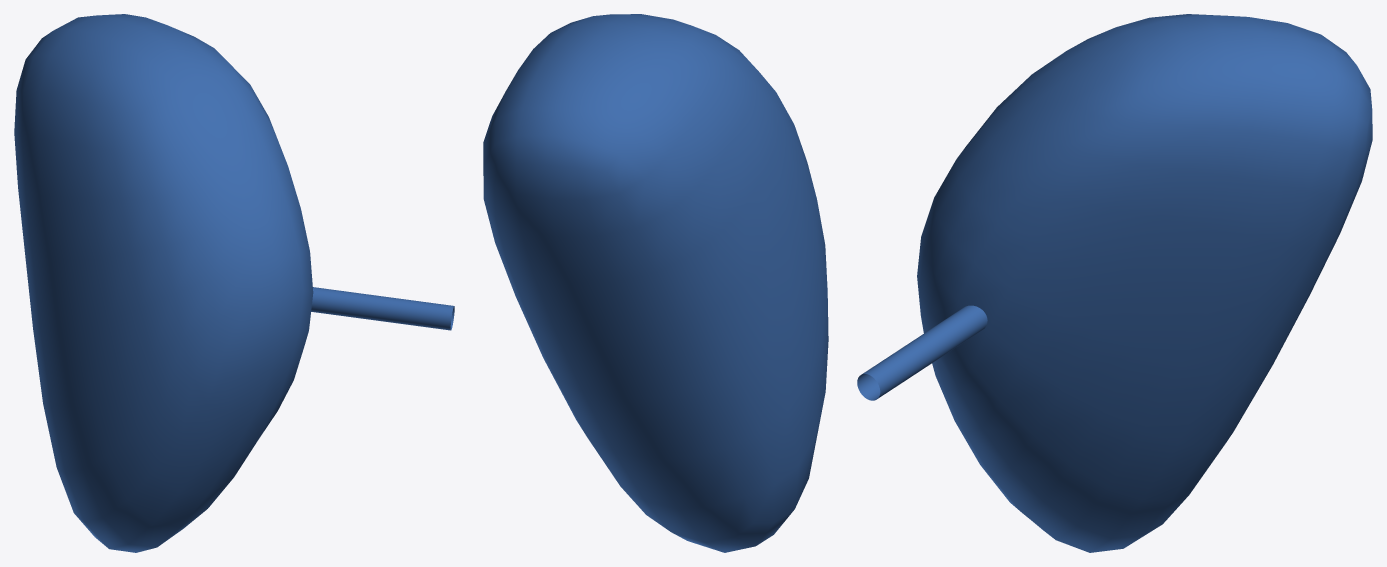
The picture shows the model from 3 angles, left to right: view 1: azimuth 30°, elevation 25°; view 2: azimuth 150°, elevation 25°; view 3: azimuth 270°, elevation 25°; orthographic projection. The views are drawn at different scales.
Visible parts, largest first — view 1: 右侧海绵窦; view 2: 右侧海绵窦; view 3: 右侧海绵窦.
Boxes of the visible parts, x1,y1,x2,y2 form: 右侧海绵窦: [14, 14, 454, 552]; 右侧海绵窦: [483, 14, 828, 552]; 右侧海绵窦: [857, 14, 1372, 552].
Bounding box in the file's own units: 0.0195 × 0.0292 × 0.0248.
